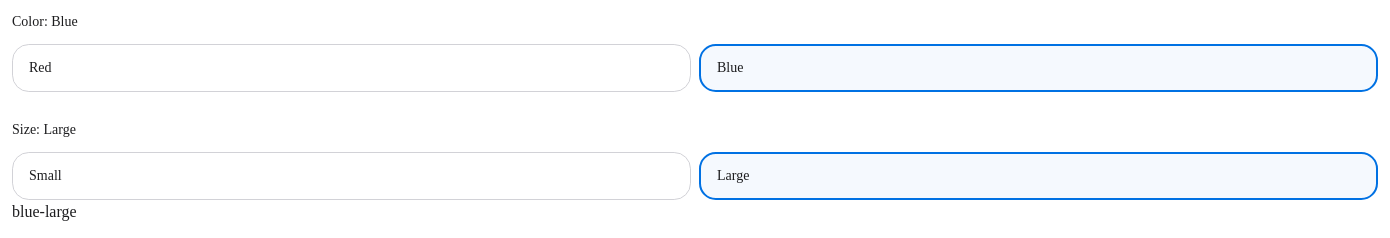
Scenario: VariantPicker › switches from blue/large to the reachable red/small variant
What coordinates should you click on to do the following:
click the button "Small"
I would click on:
 (45, 176)
Its box is [12,152,691,200].
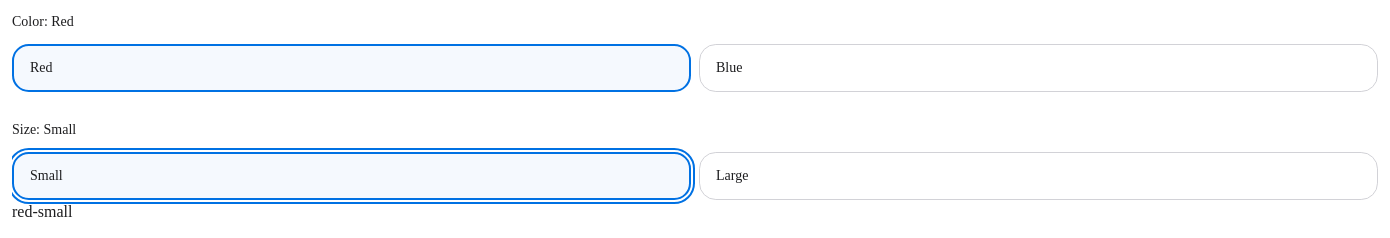
Now the text with test id "selected-variant" reads "red-small", box [12,203,72,220]
